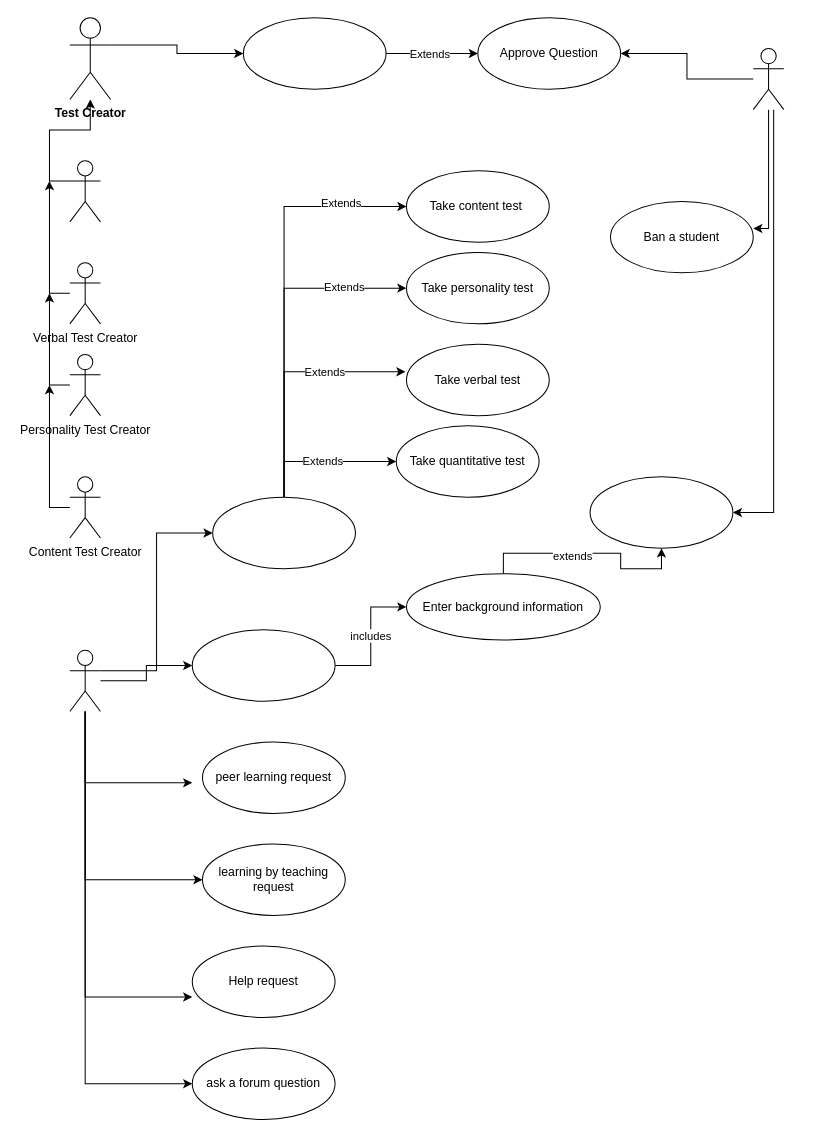
Image size: 814x1137. Some labels were removed from this diagram. Each missing label, with the centre of its shape:
"Approve student info" belongs at (x=661, y=512).
"Enroll a course" belongs at (x=283, y=532).
"Moderator" belongs at (x=768, y=78).
"Quantitative Test Creator" belongs at (x=84, y=191).
"Signup" belongs at (x=263, y=665).
"Student" belongs at (x=84, y=680).
"Submit Test Question" belongs at (x=314, y=53).
